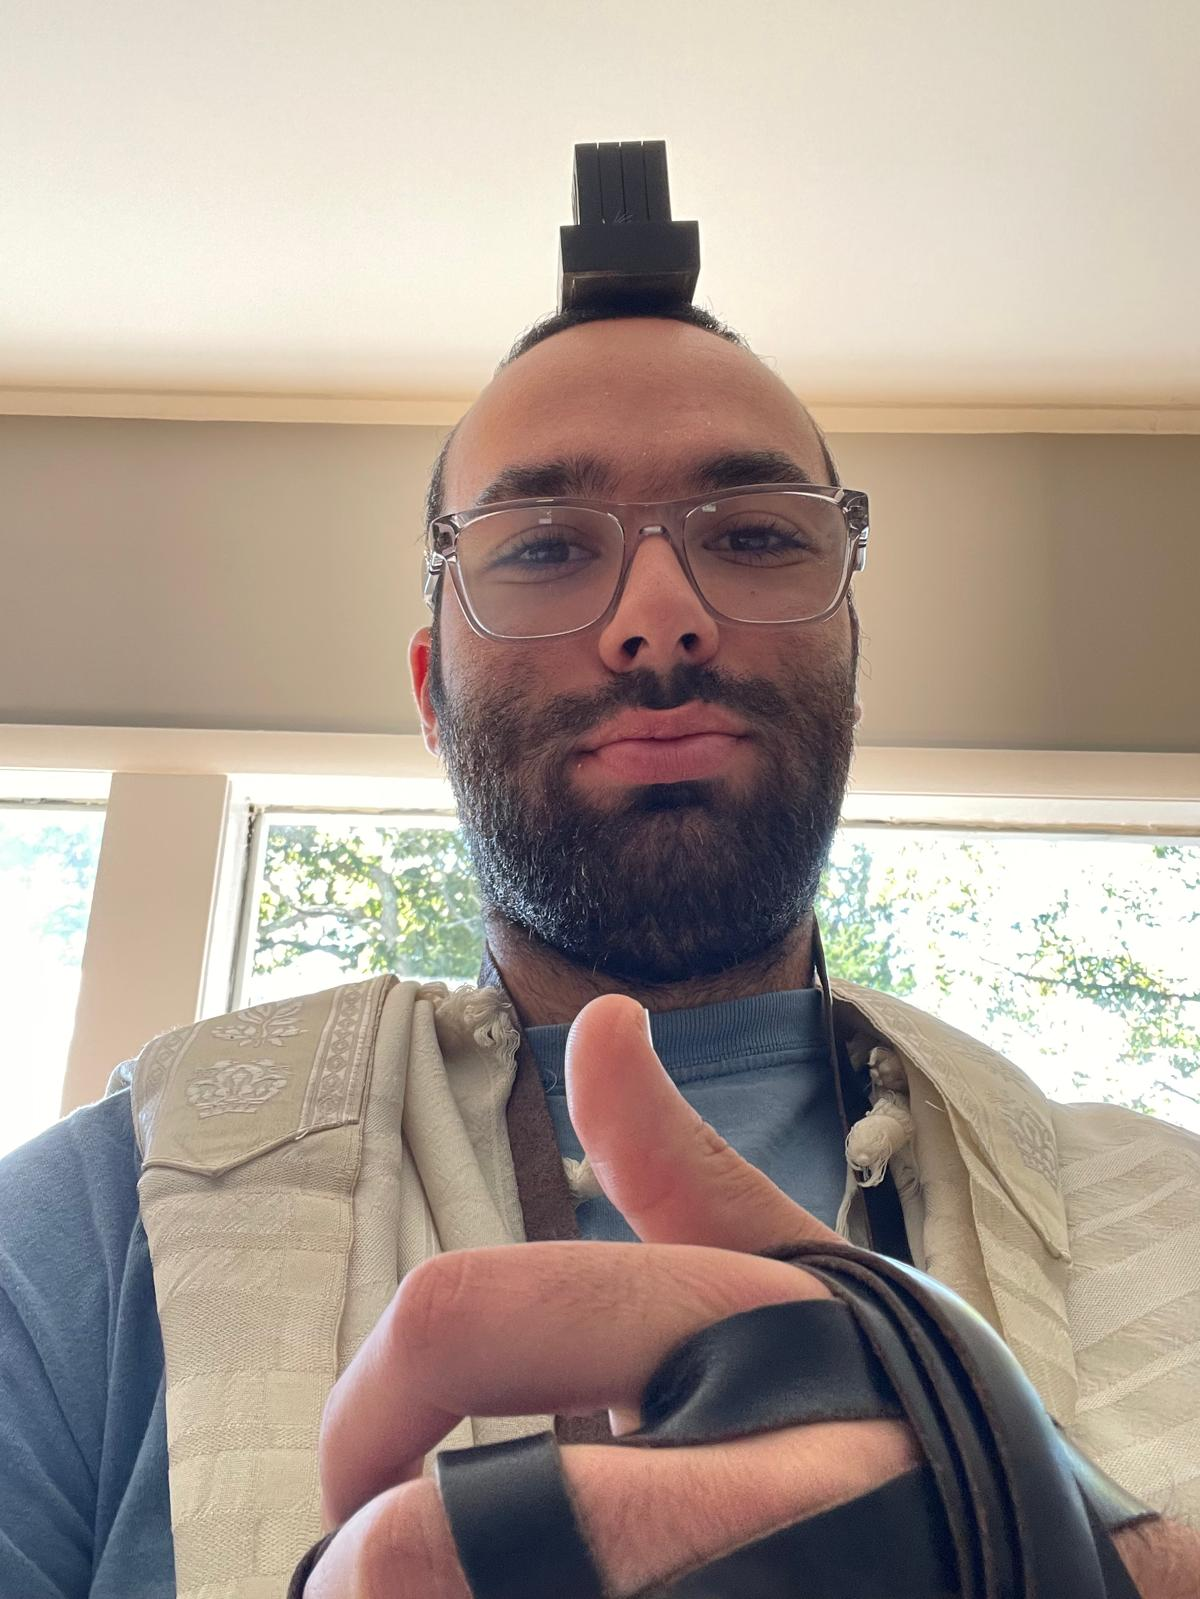tefillin: (552, 141, 703, 307)
